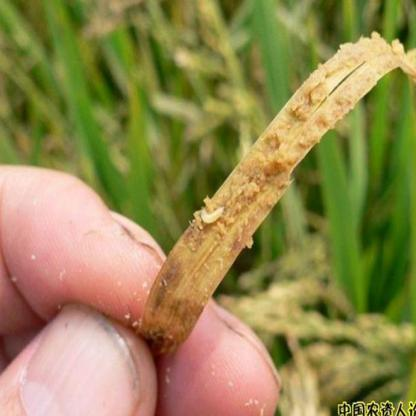whorl-maggot: (195, 201, 229, 230)
